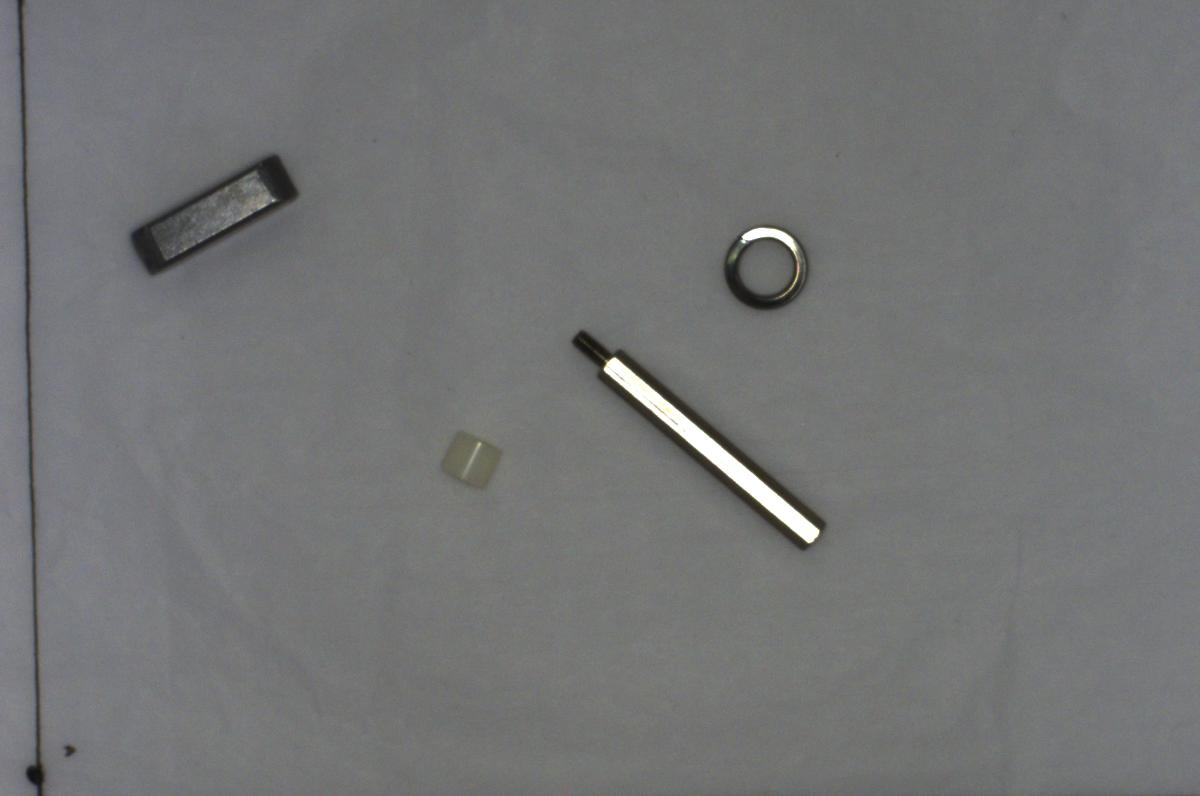Hexagonal steel column: (560, 316, 832, 560)
Keybar: (124, 142, 307, 283)
Plastic cushion pillar: (431, 422, 504, 493)
Spring washer: (714, 215, 813, 313)
